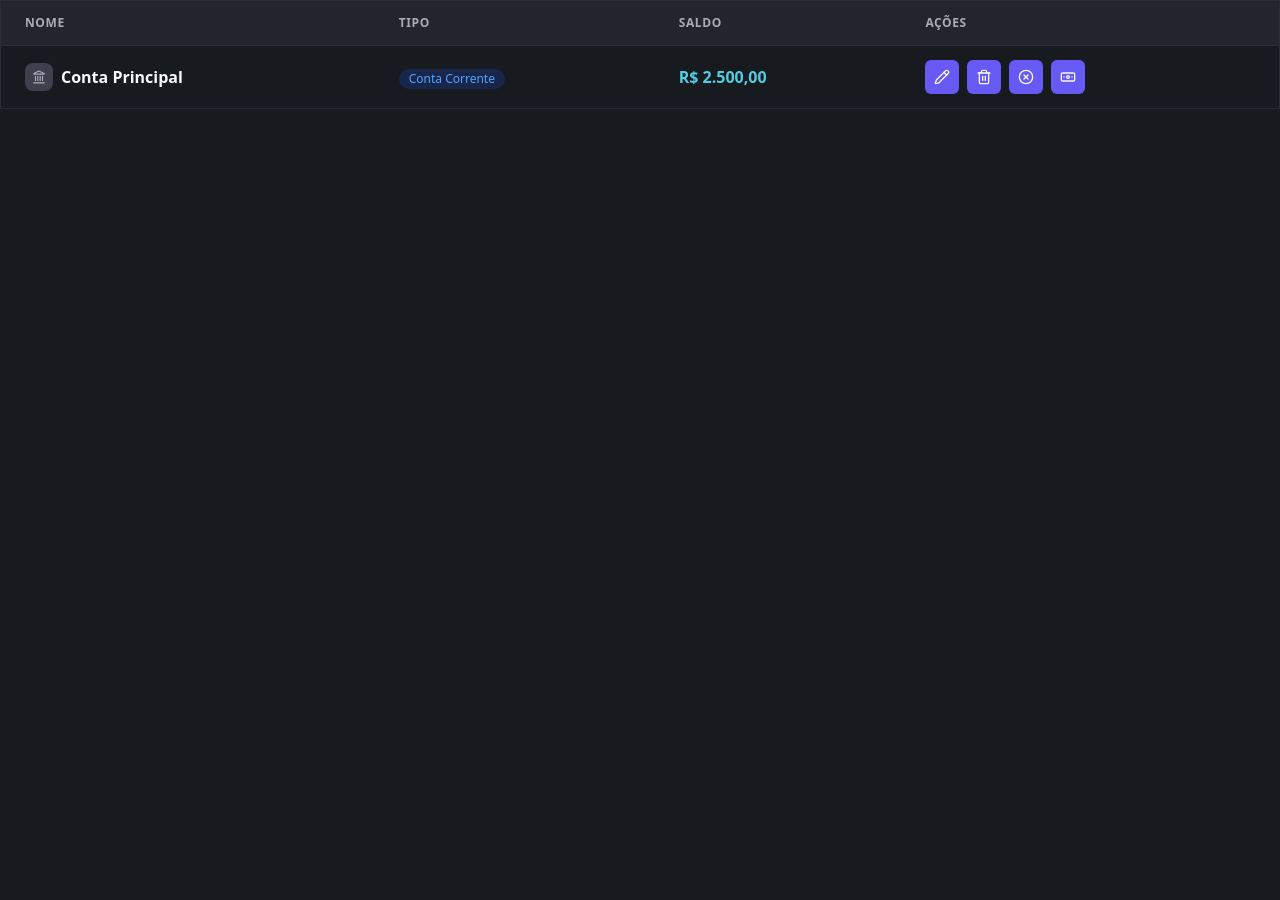
it: TabelaContas › modal de exclusão › deve abrir o modal de excluir ao clicar no botão Excluir
Click the 2nd button at [984, 77], box [967,60,1001,94]
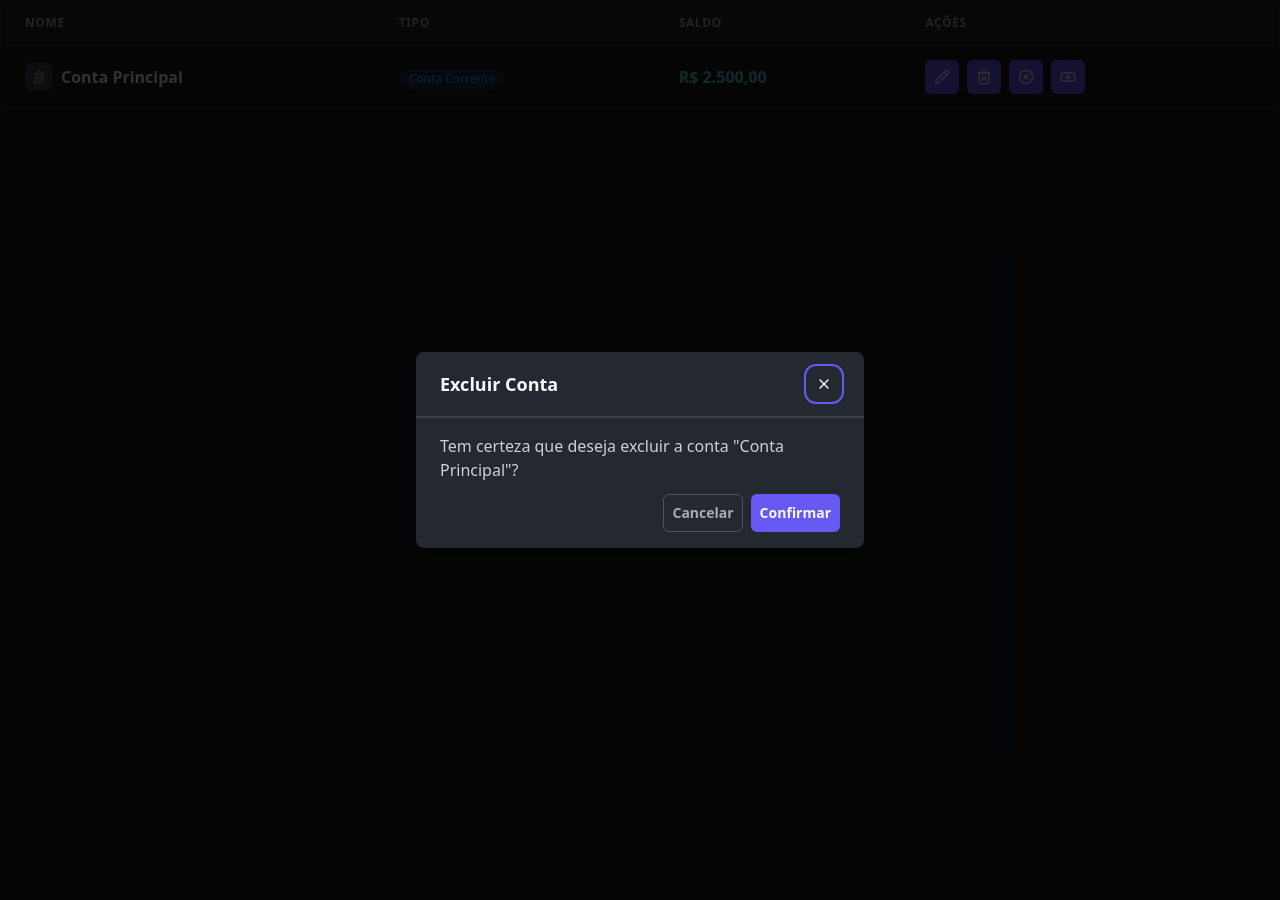
Now the dialog "Excluir Conta" is shown, box [416,352,864,548]
Now the text "Tem certeza que deseja excluir a conta \"Conta Principal\"?" is shown, box [440,434,840,482]
